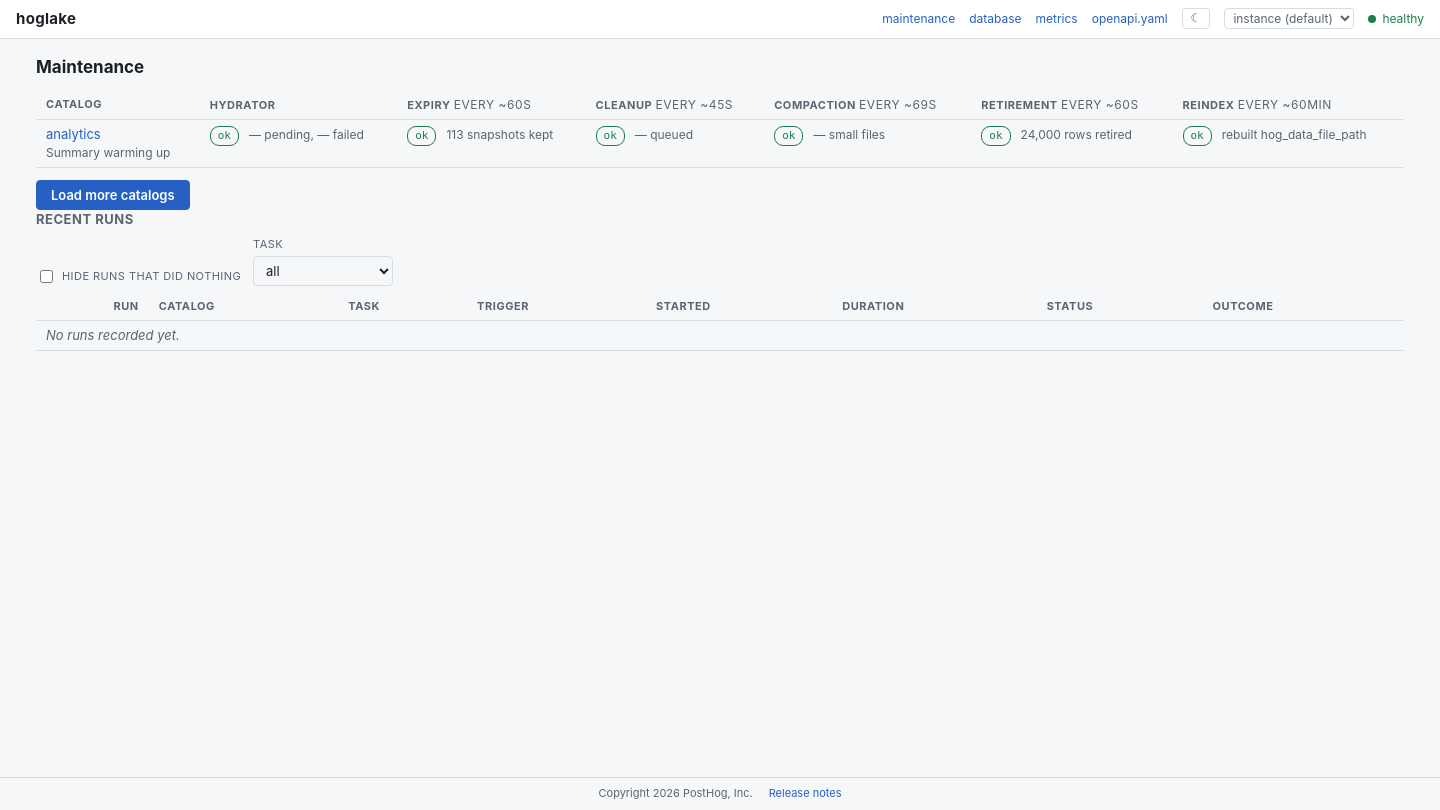
Test: CentralMaintenancePage › renders a warming summary as unknown and pages catalog summaries
The width and height of the screenshot is (1440, 810).
expect the text "Summary warming up" is shown: met, box [46, 144, 190, 162]
Click the button "Load more catalogs": (113, 195) [36, 180, 190, 210]
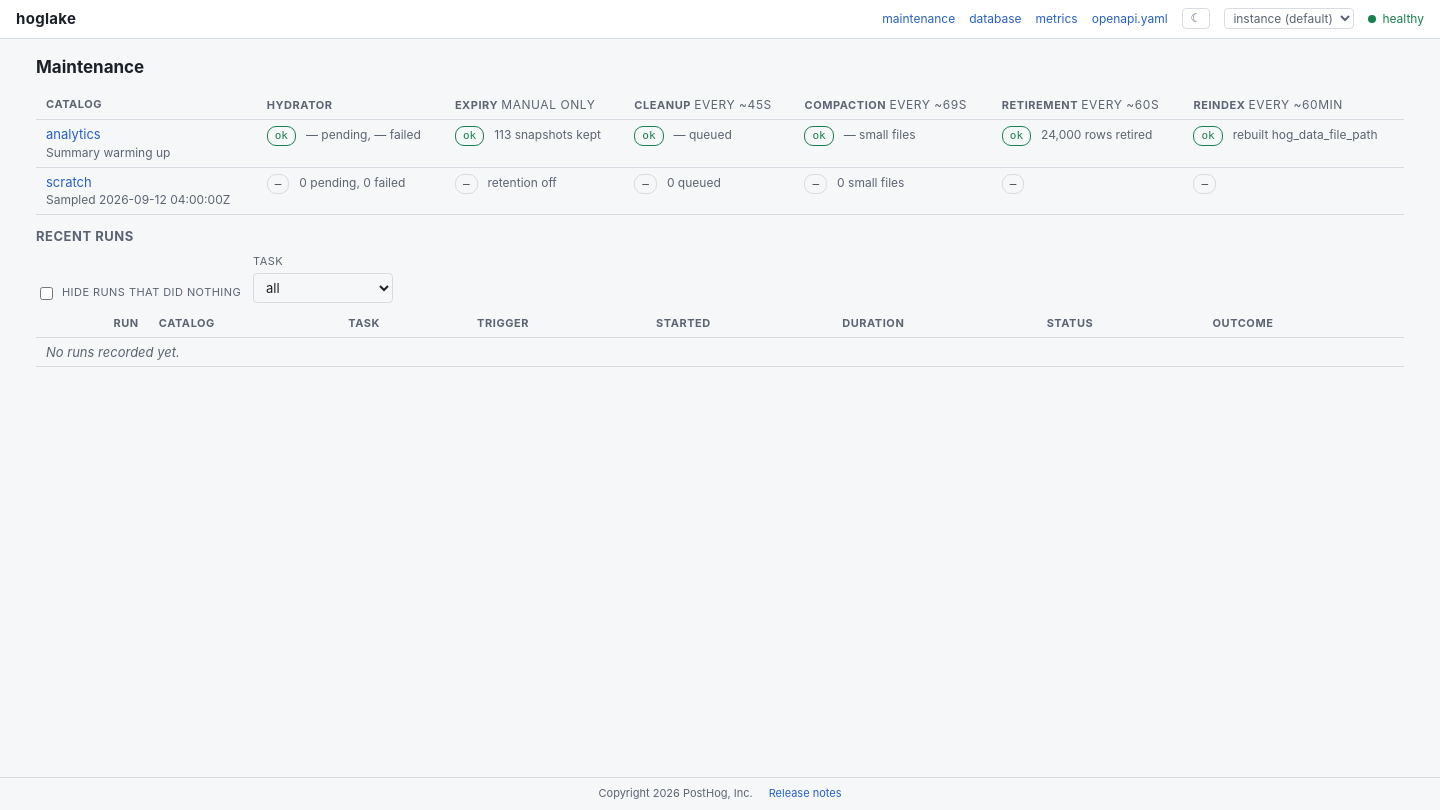
expect the text "Sampled 2026-09-12 04:00:00Z" is shown: met, box [46, 191, 247, 209]
expect the button "Load more catalogs" is gone: met
